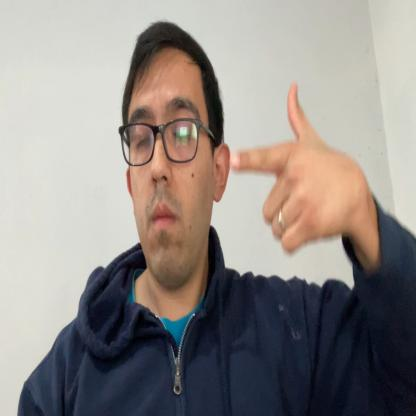G: (231, 83, 340, 253)
